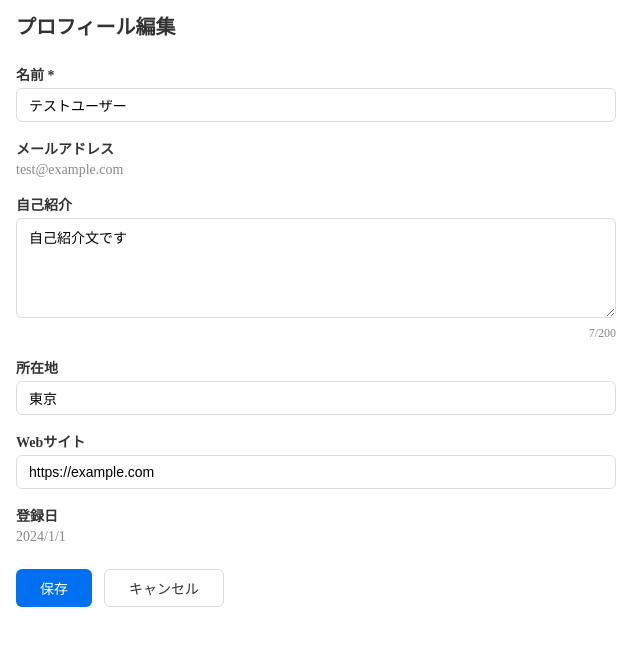
Scenario: ProfileEditForm › 名前が空の場合にバリデーションエラーが表示される
Clear the field showing "テストユーザー": (316, 105) [16,88,616,122]
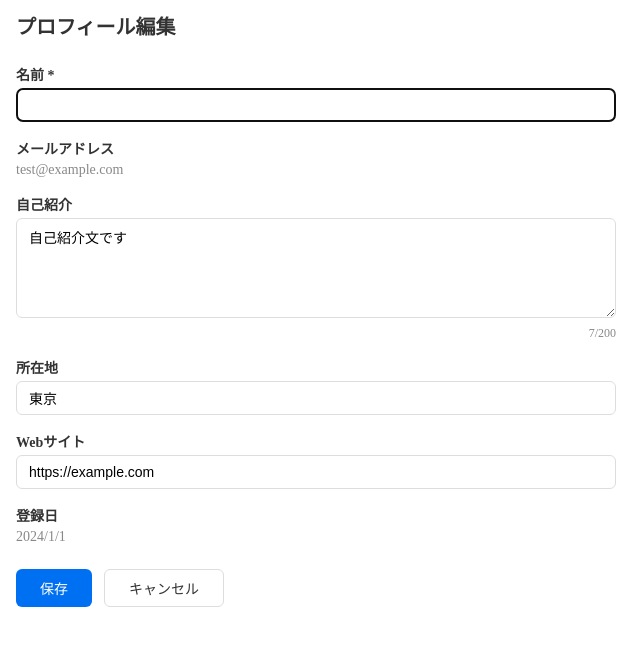
Submit the form from the button "保存", box [16,569,92,607]
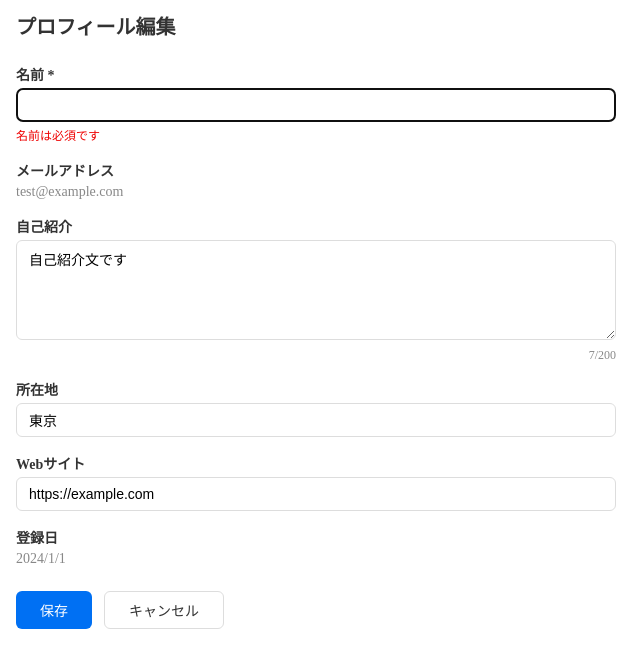
expect the text "名前は必須です" is shown: met, box [16,129,100,143]
